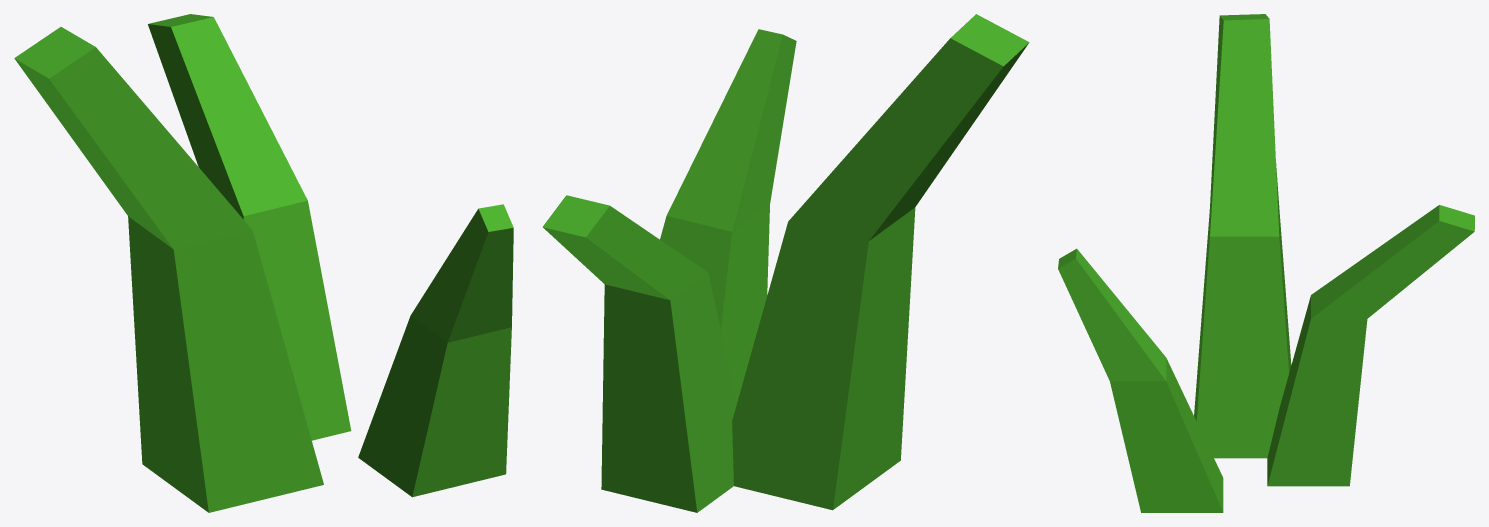
Rendered from grass_1.fbx.
3 renders of one model, left to right at view 1: azimuth 30°, elevation 25°; view 2: azimuth 150°, elevation 25°; view 3: azimuth 270°, elevation 25°, orthographic. The views are drawn at different scales.
Parts seen in each view (by area): view 1: forest_grass_1; view 2: forest_grass_1; view 3: forest_grass_1.
Part boxes in pixels (box(x1,y1,x2,y2)): forest_grass_1: box(14, 14, 513, 512); forest_grass_1: box(542, 14, 1029, 512); forest_grass_1: box(1058, 14, 1474, 512).
Bounding box in the file's own units: 377 × 326 × 360.
